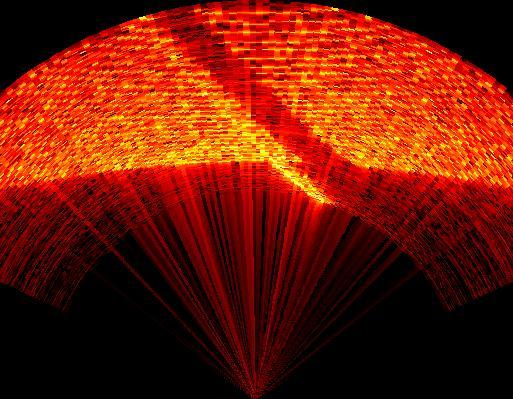pipe: (140, 8, 378, 204)
